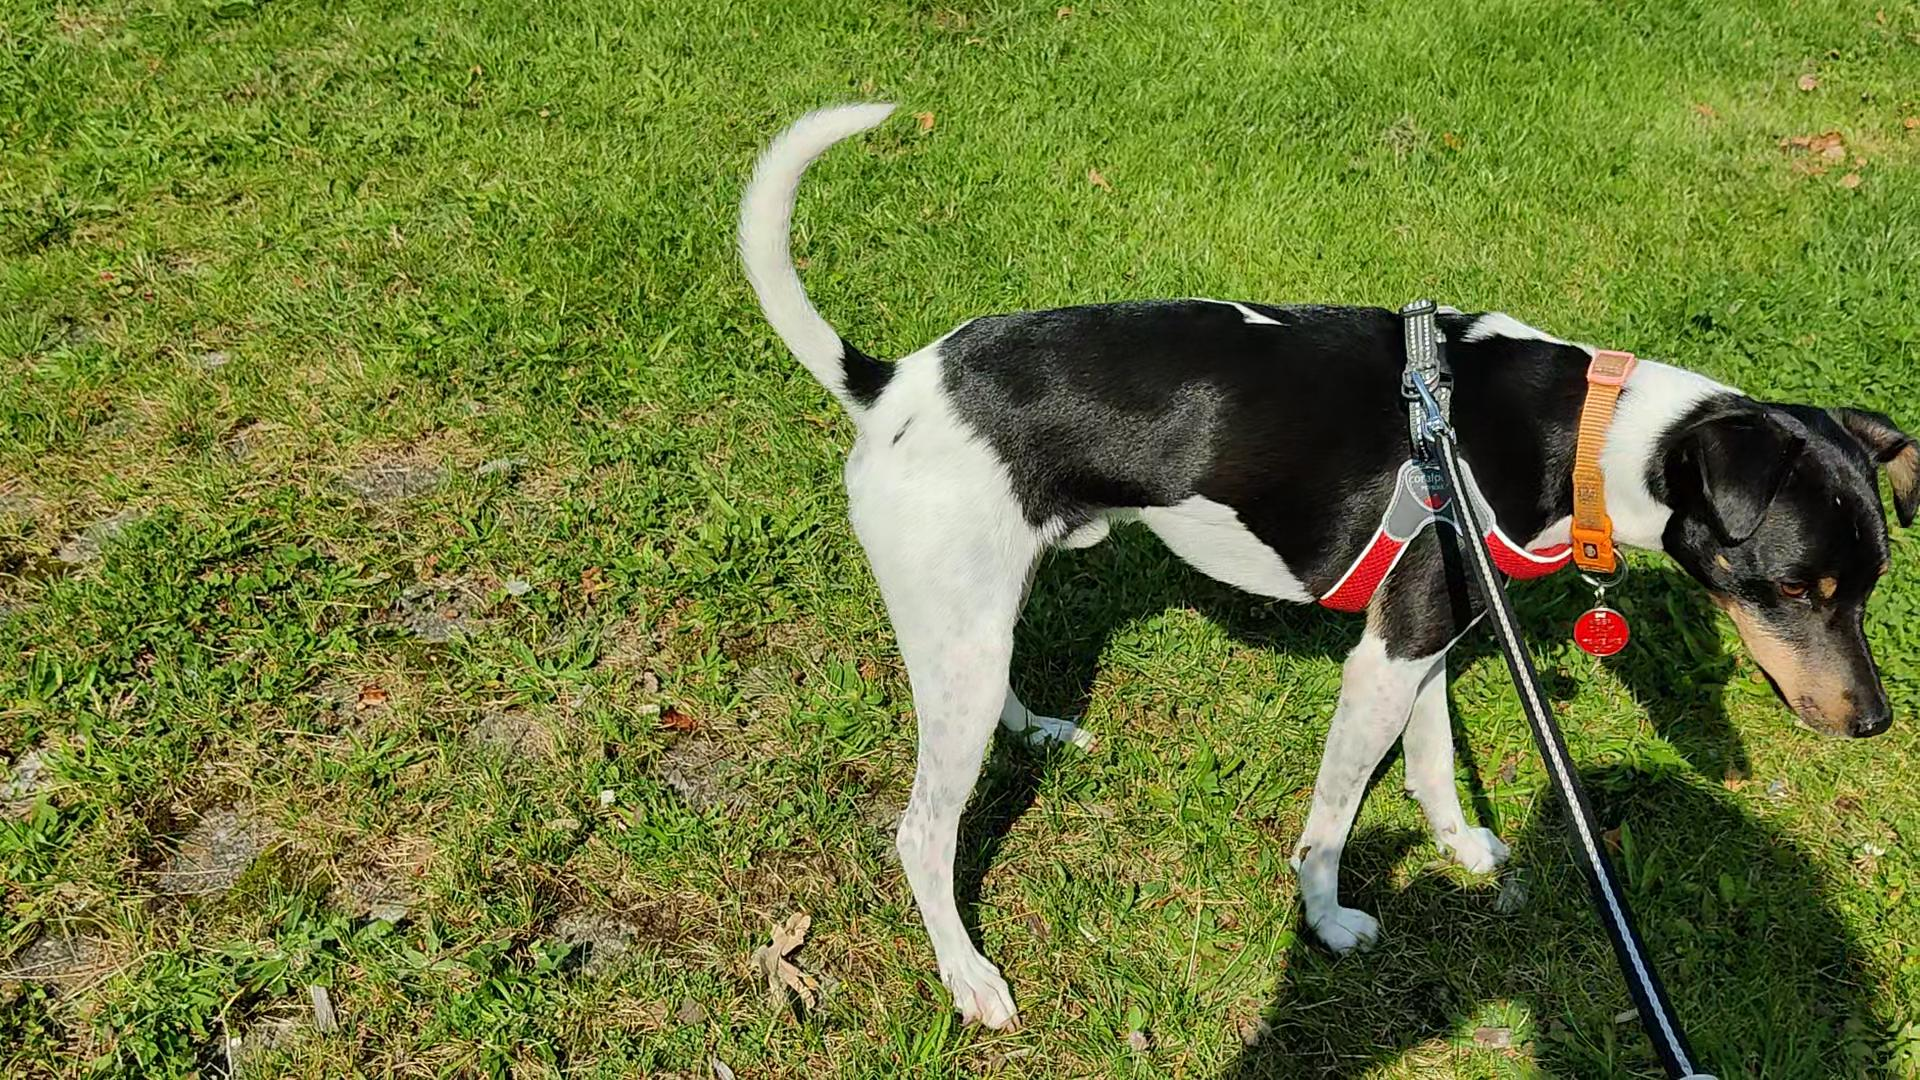Dog: (725, 88, 1919, 1030)
